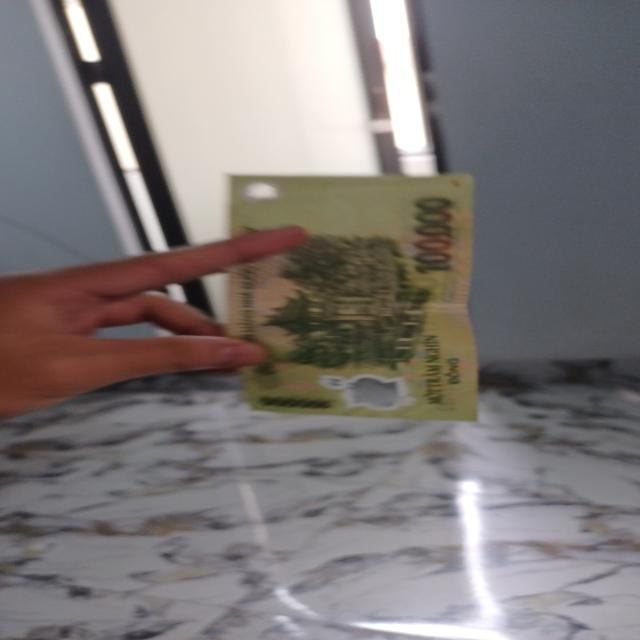100 000 VND: (220, 172, 482, 423)
